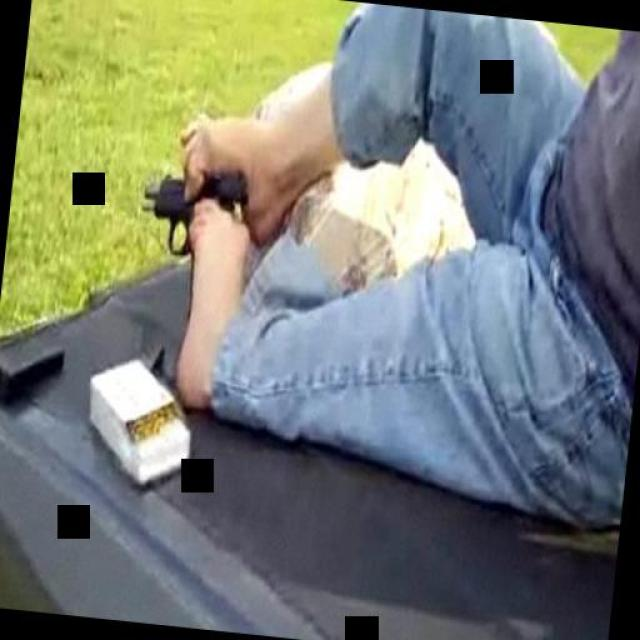gun: (129, 156, 250, 322)
